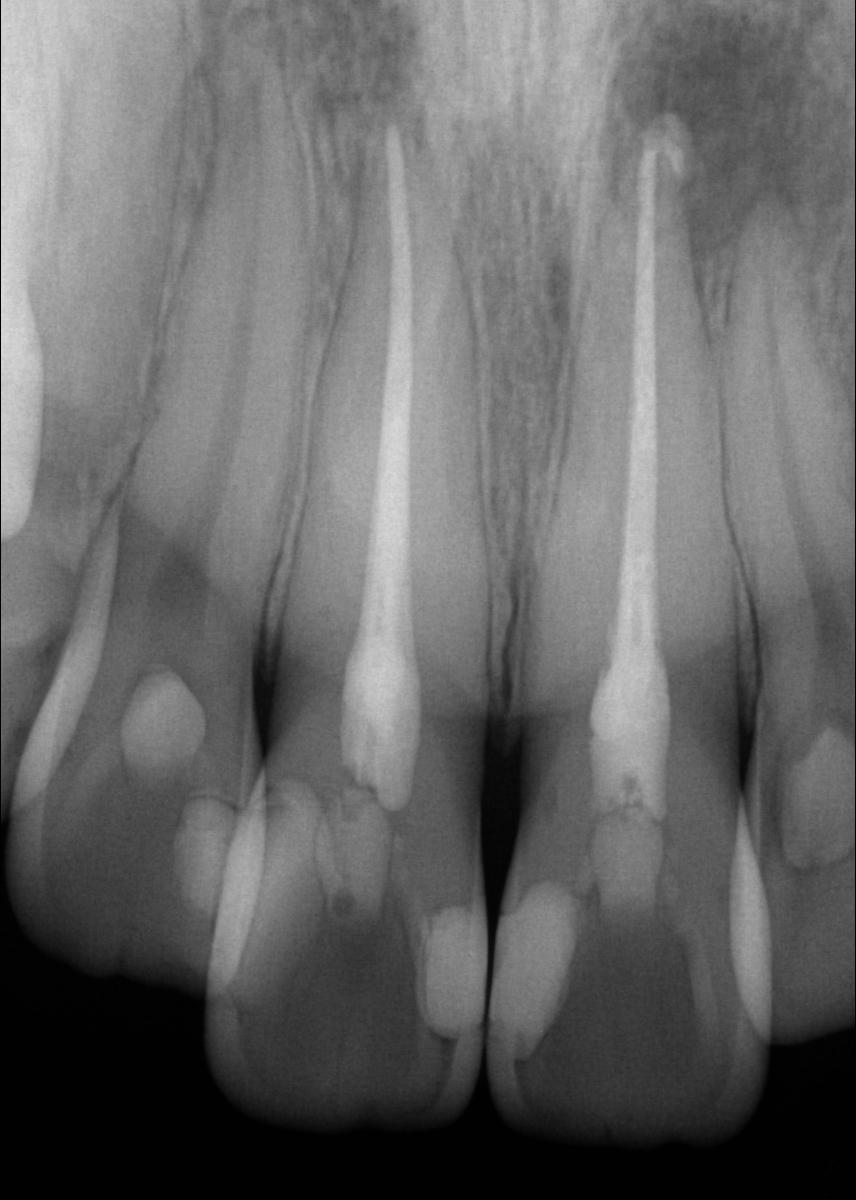Furcation Involvement: (614, 0, 856, 263)
